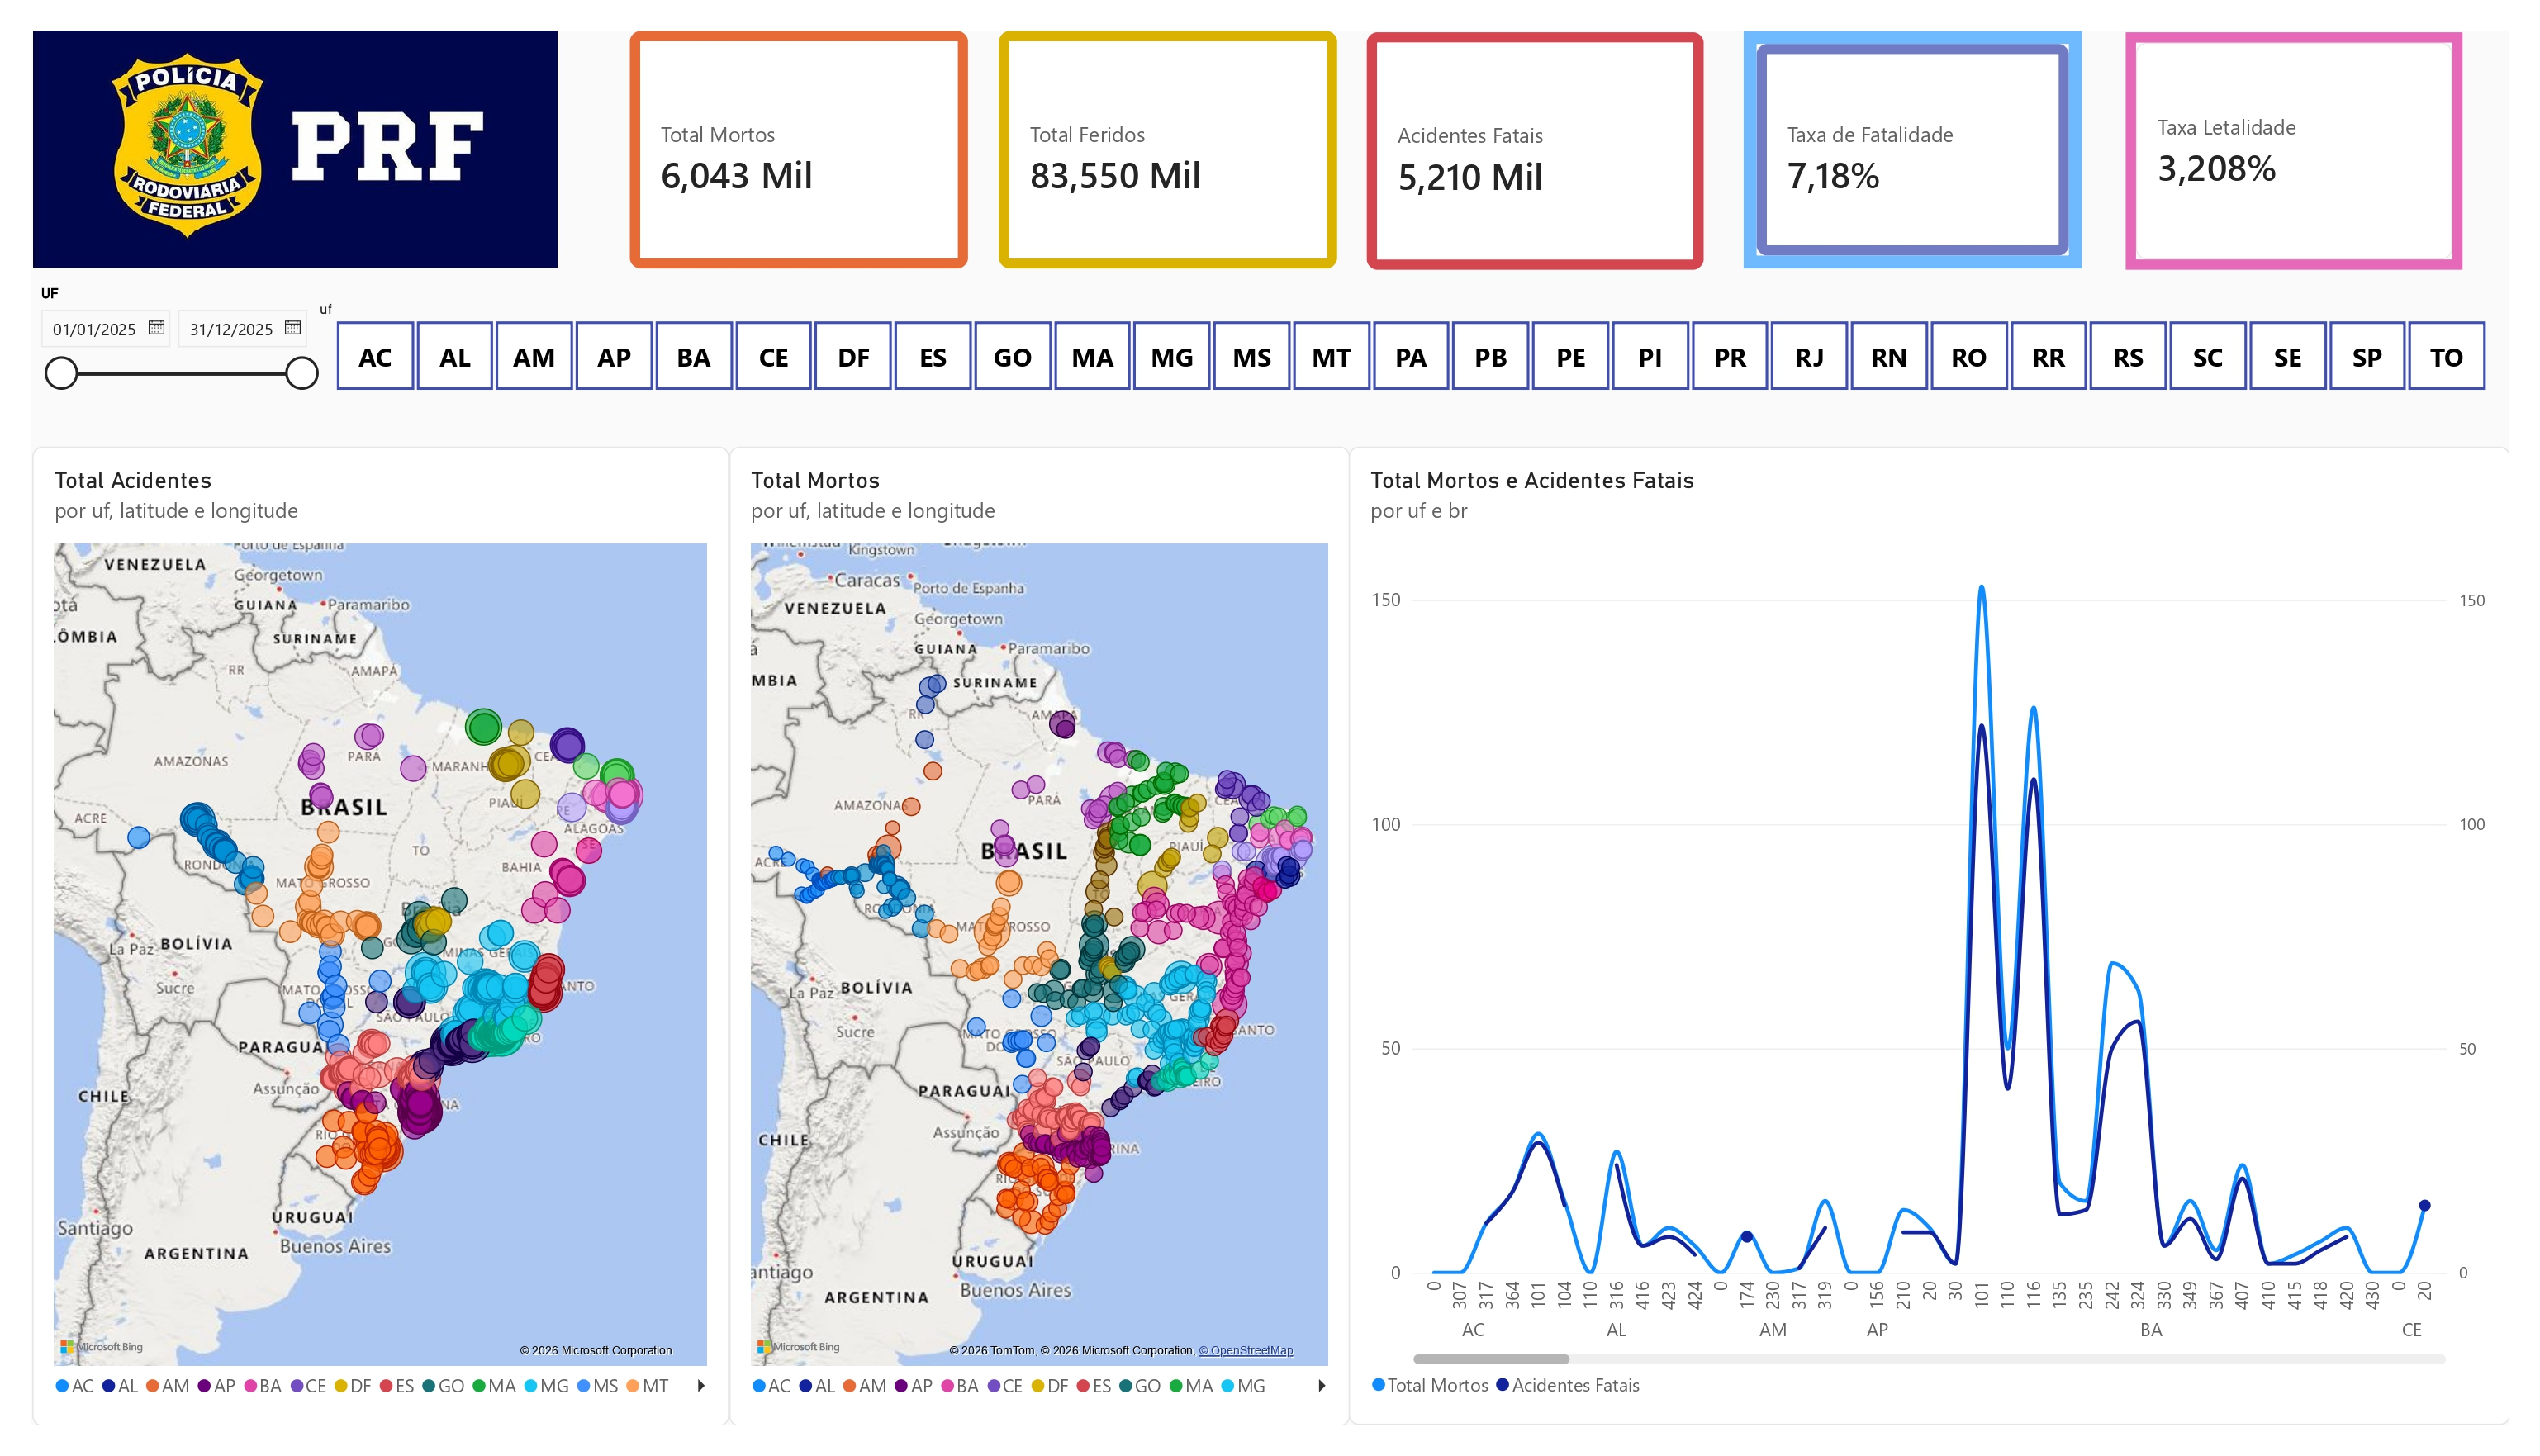

What the dashboard file says about the page in this screenshot:
{"tool":"powerbi","page":{"name":"Análise Geográfica","canvas":[1920,1080],"ordinal":3},"visuals":[{"type":"map","fields":{"Series":["base_analitica_prf_2025.uf"],"Size":["base_analitica_prf_2025.Total Acidentes"],"X":["base_analitica_prf_2025.longitude"],"Y":["base_analitica_prf_2025.latitude"]},"box":[1.4,322.2,539.7,758.4],"z":0},{"type":"slicer","fields":{"Values":["base_analitica_prf_2025.uf"]},"box":[215.9,208.6,1705.5,71.5],"z":1000},{"type":"map","fields":{"Series":["base_analitica_prf_2025.uf"],"Size":["base_analitica_prf_2025.Total Mortos"],"X":["base_analitica_prf_2025.longitude"],"Y":["base_analitica_prf_2025.latitude"]},"box":[541.1,322.2,480.8,758.4],"z":2000},{"type":"lineChart","fields":{"Category":["base_analitica_prf_2025.uf","base_analitica_prf_2025.br"],"Y":["base_analitica_prf_2025.Total Mortos"],"Y2":["base_analitica_prf_2025.Acidentes Fatais"]},"box":[1021.5,321.9,899.5,758.4],"z":3000},{"type":"image","box":[0,0,410.3,183.2],"z":4000},{"type":"cardVisual","fields":{"Data":["base_analitica_prf_2025.Total_Mortos"]},"box":[464.2,0,261.4,184],"z":5000},{"type":"cardVisual","fields":{"Data":["base_analitica_prf_2025.Total_Feridos"]},"box":[750.1,0,261.4,184],"z":6000},{"type":"cardVisual","fields":{"Data":["base_analitica_prf_2025.Acidentes_Fatais"]},"box":[1034.8,1.3,261.4,184],"z":7000},{"type":"cardVisual","fields":{"Data":["base_analitica_prf_2025.Porcentagem_Fatal"]},"box":[1327.4,0,261.4,184],"z":8000},{"type":"cardVisual","fields":{"Data":["base_analitica_prf_2025.Taxa Letalidade"]},"box":[1622.7,1.3,261.4,184],"z":9000},{"type":"slicer","fields":{"Values":["base_analitica_prf_2025.data_inversa"]},"box":[0,197,226.1,125.5],"z":10000}]}

Visuals, with their boxes on the page's 1920x1080 design canvas (x1, y1, x2, y2). These are canvas units, not pixel positions in the 2540x1456 screenshot, which may show the page scaled, cropped or inside an application window:
map - base_analitica_prf_2025.uf x base_analitica_prf_2025.Total Acidentes: 1/322/541/1081
slicer - base_analitica_prf_2025.uf: 216/209/1921/280
map - base_analitica_prf_2025.uf x base_analitica_prf_2025.Total Mortos: 541/322/1022/1081
lineChart - base_analitica_prf_2025.uf x base_analitica_prf_2025.br: 1022/322/1921/1080
image: 0/0/410/183
cardVisual - base_analitica_prf_2025.Total_Mortos: 464/0/726/184
cardVisual - base_analitica_prf_2025.Total_Feridos: 750/0/1012/184
cardVisual - base_analitica_prf_2025.Acidentes_Fatais: 1035/1/1296/185
cardVisual - base_analitica_prf_2025.Porcentagem_Fatal: 1327/0/1589/184
cardVisual - base_analitica_prf_2025.Taxa Letalidade: 1623/1/1884/185
slicer - base_analitica_prf_2025.data_inversa: 0/197/226/322
